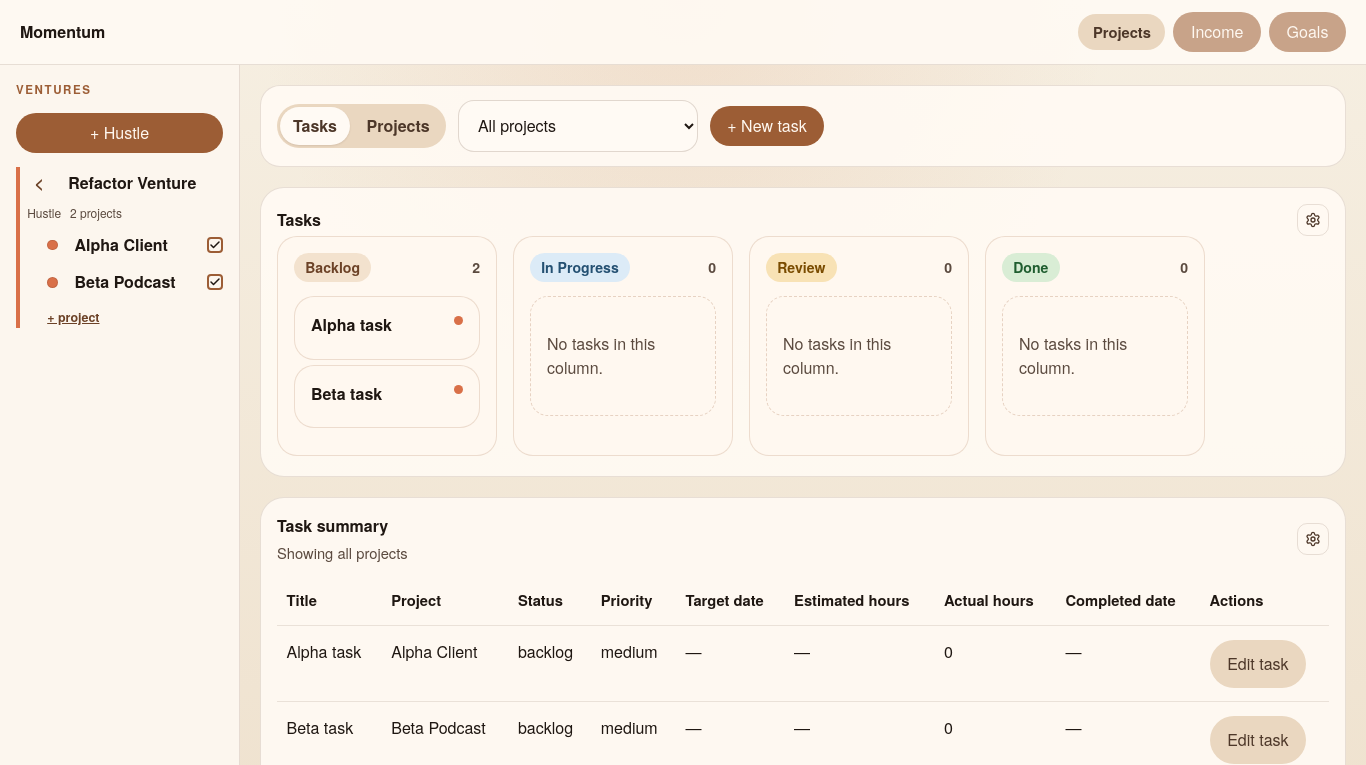
Test: App frontend refactor baseline › keeps the toolbar project filter aligned with sidebar selection changes, including zero selected projects
Expected: the dropdown named "project filter" shows "All projects", [458,100,698,152]
Click the checkbox named "show alpha client in workspace" at (215, 245), box [207,237,223,253]
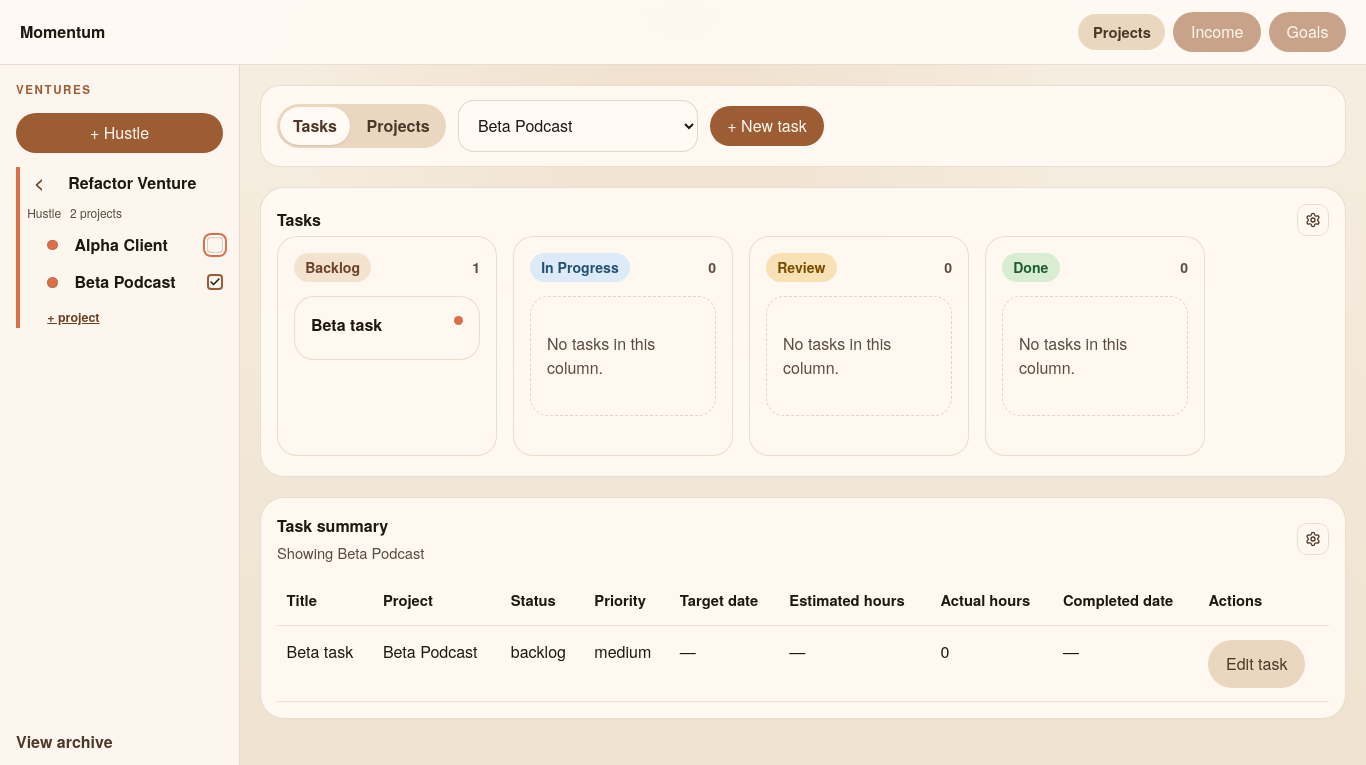
Expected: the dropdown named "project filter" shows "Beta Podcast", [458,100,698,152]
Click the checkbox named "show beta podcast in workspace" at (215, 282), box [207,274,223,290]
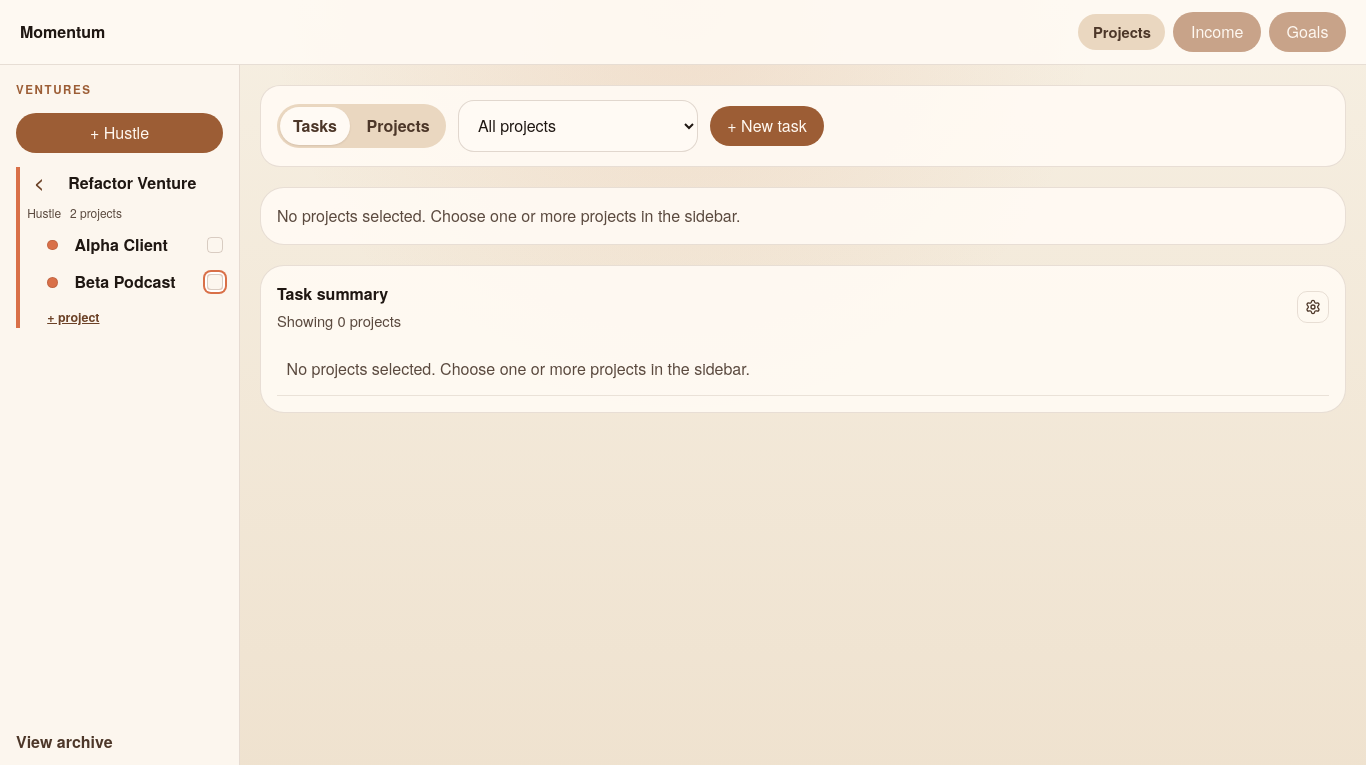
Expected: the dropdown named "project filter" shows "All projects", [458,100,698,152]
Expected: the 1st text "No projects selected" is shown, [277,204,740,227]
